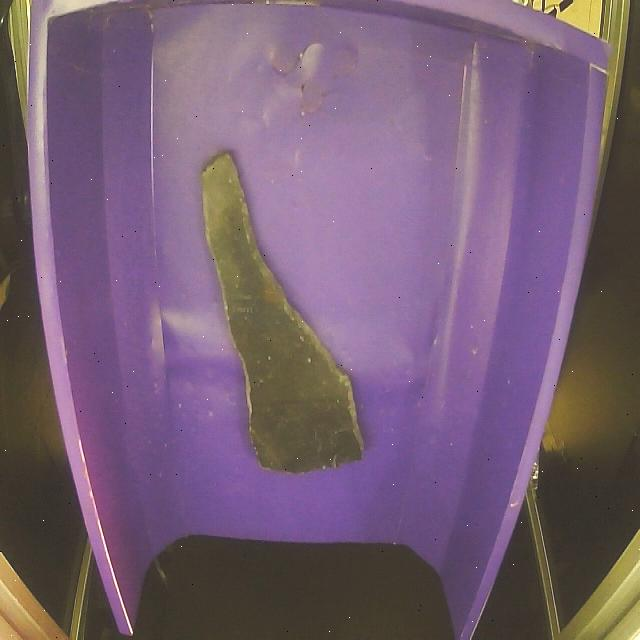china: (192, 142, 377, 478)
